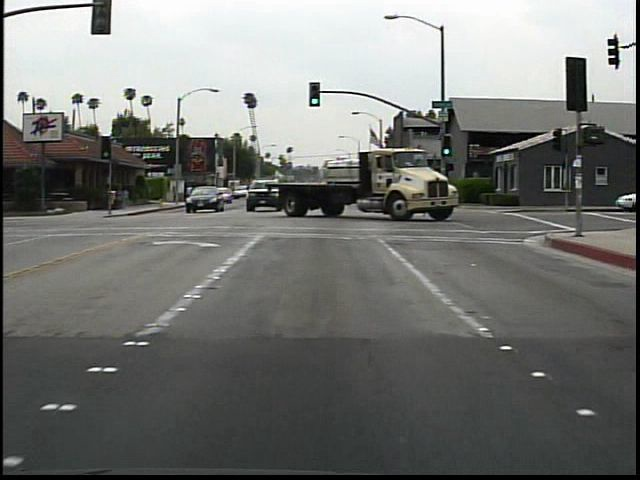person: (183, 182, 199, 206)
